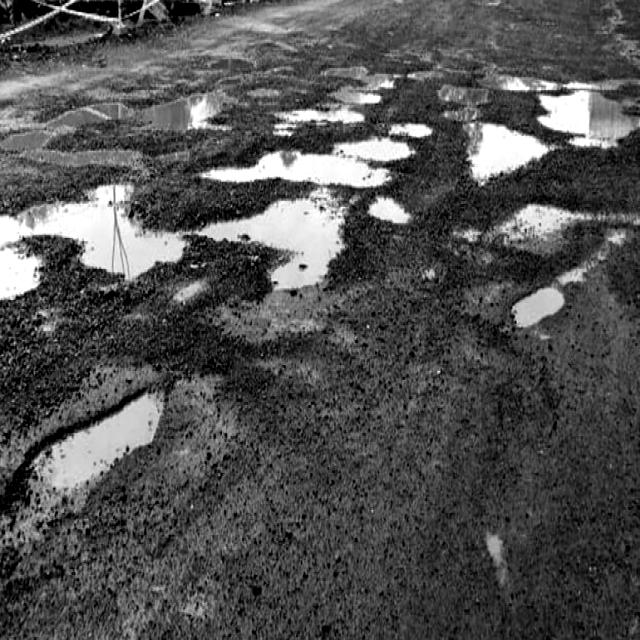pathole: (0, 2, 640, 546)
